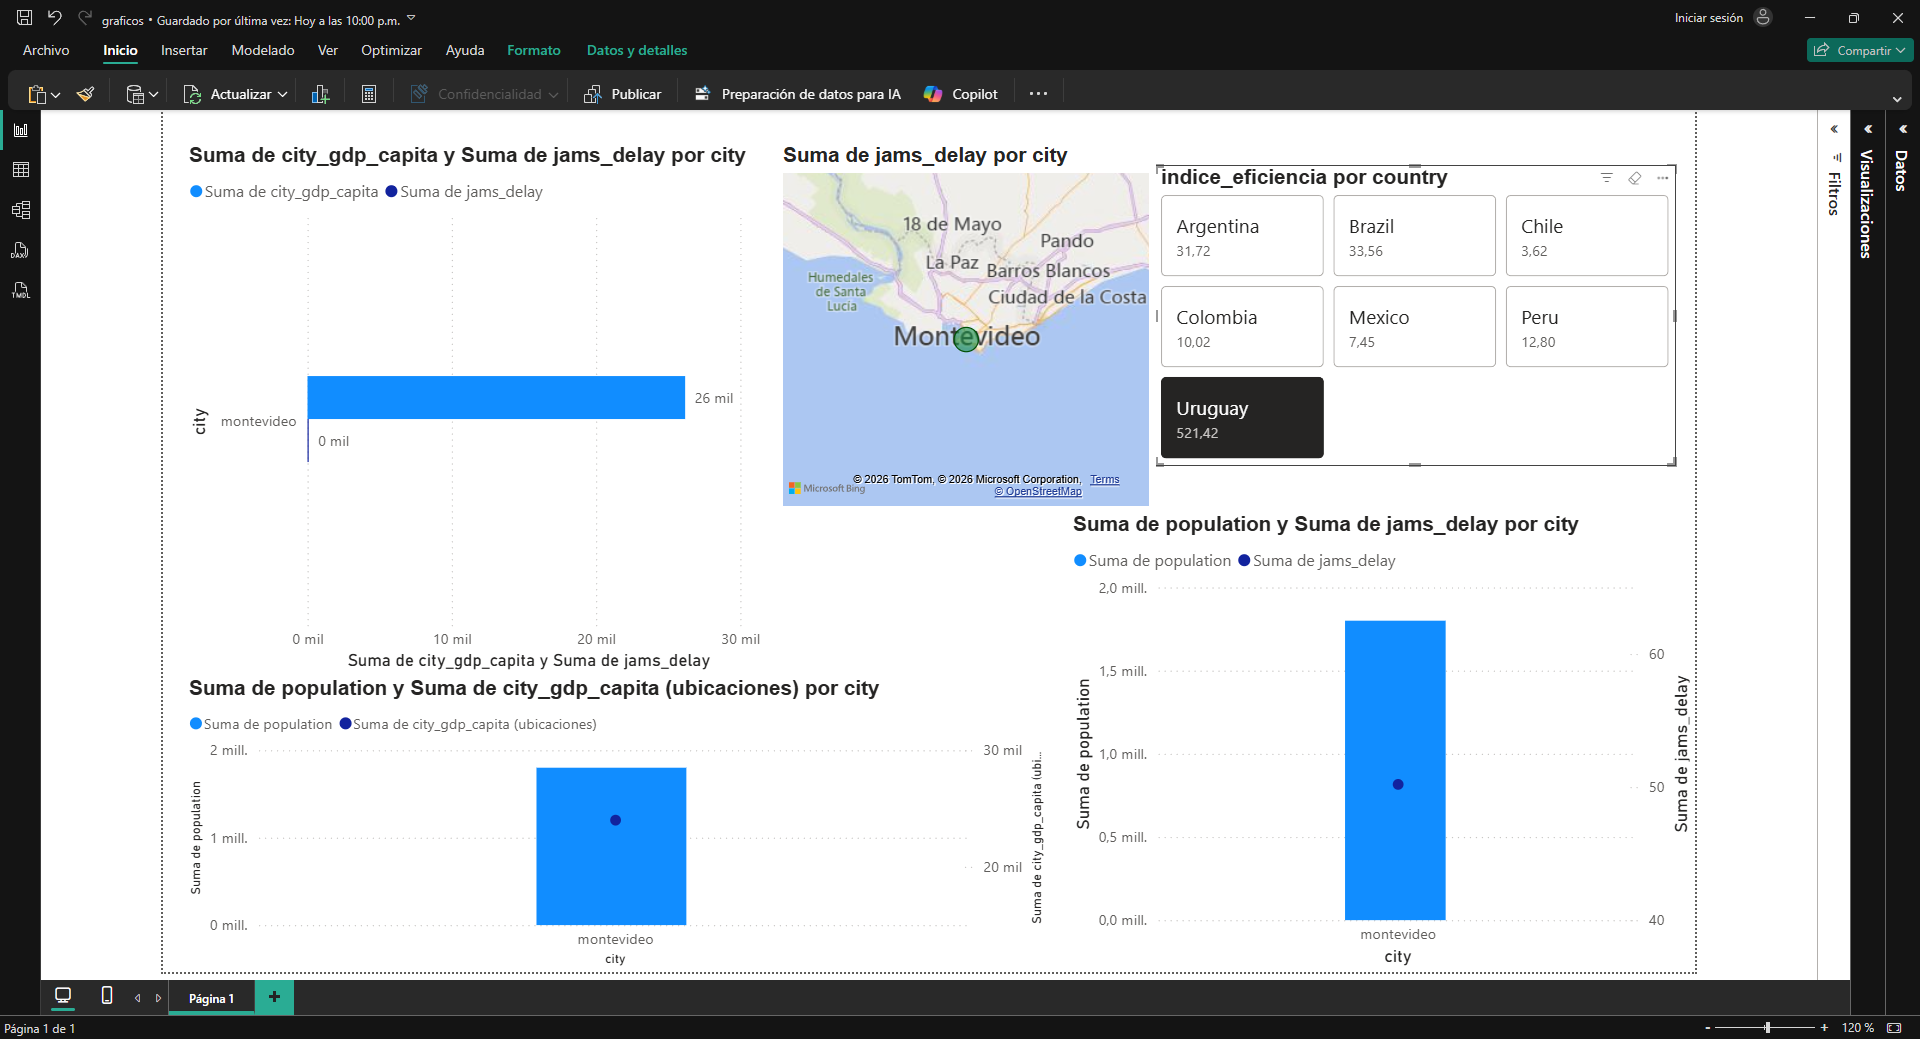

The page's visual inventory and layout, read from the dashboard file:
{"tool":"powerbi","page":{"name":"Página 1","canvas":[1280,720],"ordinal":0},"visuals":[{"type":"clusteredBarChart","title":"Relación PIB vs. Congestión","fields":{"Category":["movilidad_economica_final.city"],"Y":["Sum(movilidad_economica_final.city_gdp_capita)","Sum(movilidad_economica_final.jams_delay)"]},"box":[22.4,70.7,432.1,401.9],"z":0},{"type":"lineStackedColumnComboChart","title":"Densidad Poblacional vs. Retrasos","fields":{"Category":["movilidad_economica_final.city"],"Y":["Sum(movilidad_economica_final.population)"],"Y2":["Sum(movilidad_economica_final.jams_delay)"]},"box":[800.4,400.2,463.2,320],"z":1000},{"type":"lineStackedColumnComboChart","title":"Relación PIB vs. Densidad poblacional","fields":{"Category":["movilidad_economica_final.city"],"Y2":["Sum(movilidad_economica_final.city_gdp_capita (ubicaciones))"],"Y":["Sum(movilidad_economica_final.population)"]},"box":[22.8,479.8,771.3,230.3],"z":2000},{"type":"advancedSlicerVisual","title":"Indice de ingresos/congestión","fields":{"Values":["movilidad_economica_final.country"],"Label":["movilidad_economica_final.indice_eficiencia"]},"box":[800.2,70.9,463.1,296.8],"z":3000},{"type":"map","fields":{"Category":["movilidad_economica_final.city"],"Size":["Sum(movilidad_economica_final.jams_delay)"]},"box":[461.4,70.9,332.7,392.2],"z":4000},{"type":"textbox","title":"Análisis de Impacto Económico: Movilidad Urbana 2024","box":[336.6,19.2,702.5,37.6],"z":5000}]}

Visuals, with their boxes on the page's 1280x720 design canvas (x1, y1, x2, y2). These are canvas units, not pixel positions in the 1920x1039 screenshot, which may show the page scaled, cropped or inside an application window:
"Relación PIB vs. Congestión" clusteredBarChart: [x1=22, y1=71, x2=454, y2=473]
"Densidad Poblacional vs. Retrasos" lineStackedColumnComboChart: [x1=800, y1=400, x2=1264, y2=720]
"Relación PIB vs. Densidad poblacional" lineStackedColumnComboChart: [x1=23, y1=480, x2=794, y2=710]
"Indice de ingresos/congestión" advancedSlicerVisual: [x1=800, y1=71, x2=1263, y2=368]
map - movilidad_economica_final.city x Sum(movilidad_economica_final.jams_delay): [x1=461, y1=71, x2=794, y2=463]
"Análisis de Impacto Económico: Movilidad Urbana 2024" textbox: [x1=337, y1=19, x2=1039, y2=57]
